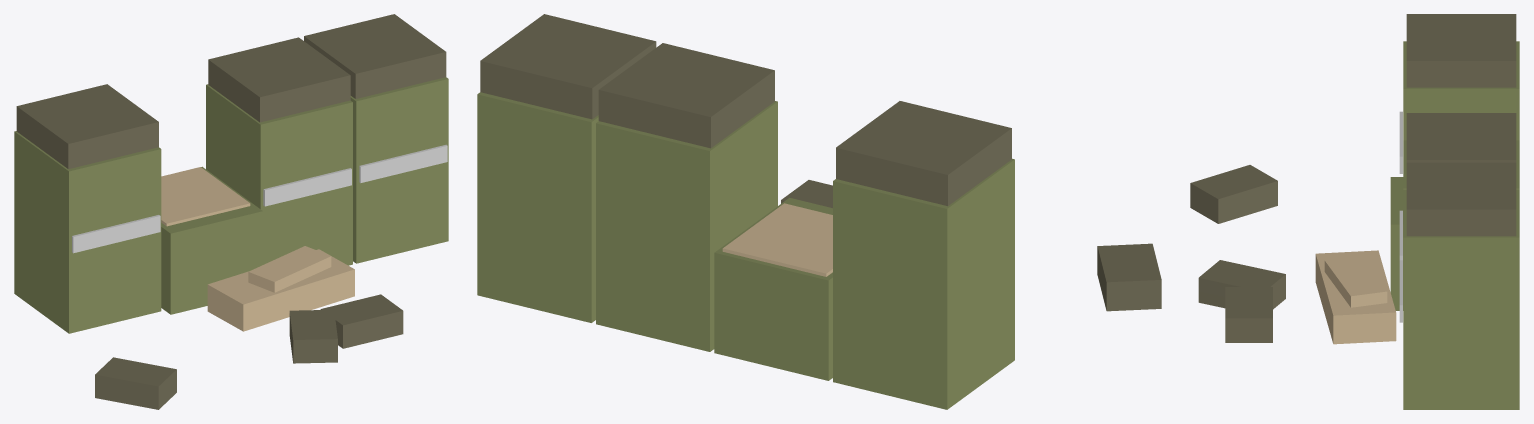
The model's file is SM_HescoCorto4_v3_RemateSacos_e1_Danado_LOD1.fbx.
3 views of the same model, side by side, from view 1: azimuth 30°, elevation 25°; view 2: azimuth 150°, elevation 25°; view 3: azimuth 270°, elevation 25° (orthographic). The views are drawn at different scales.
Visible parts, largest first — view 1: SM_hesco_piezas_v113_LOD1; view 2: SM_hesco_piezas_v113_LOD1; view 3: SM_hesco_piezas_v113_LOD1.
Part boxes in pixels (<box>): SM_hesco_piezas_v113_LOD1: <box>14,14,448,409</box>; SM_hesco_piezas_v113_LOD1: <box>477,14,1161,409</box>; SM_hesco_piezas_v113_LOD1: <box>1190,14,1519,409</box>.
Bounding box in the file's own units: 4.94 × 2.09 × 3.12.
